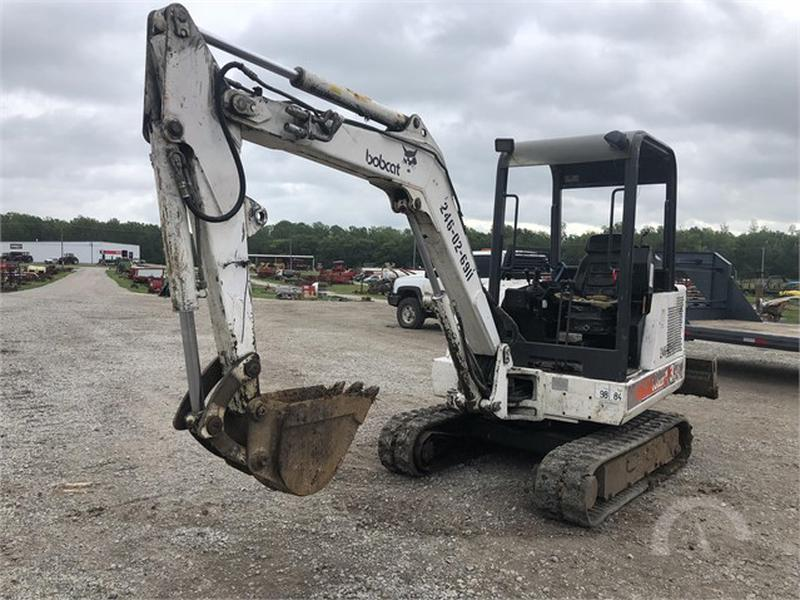shovel: (136, 3, 727, 534)
